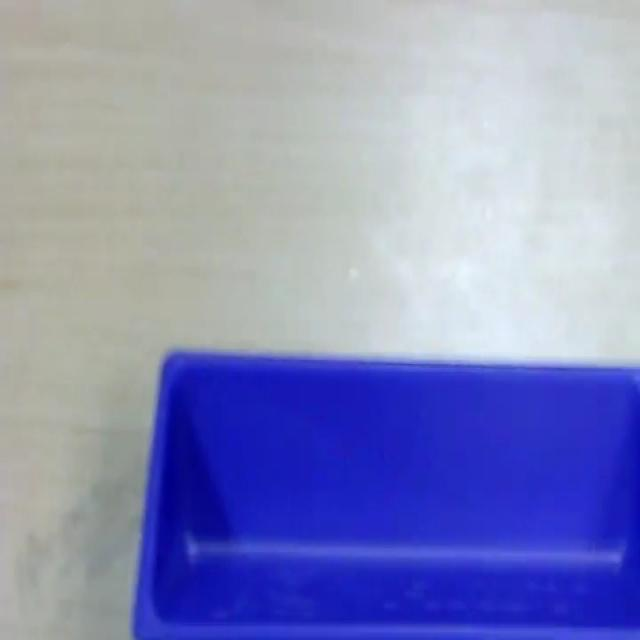blue_block: (131, 345, 638, 636)
